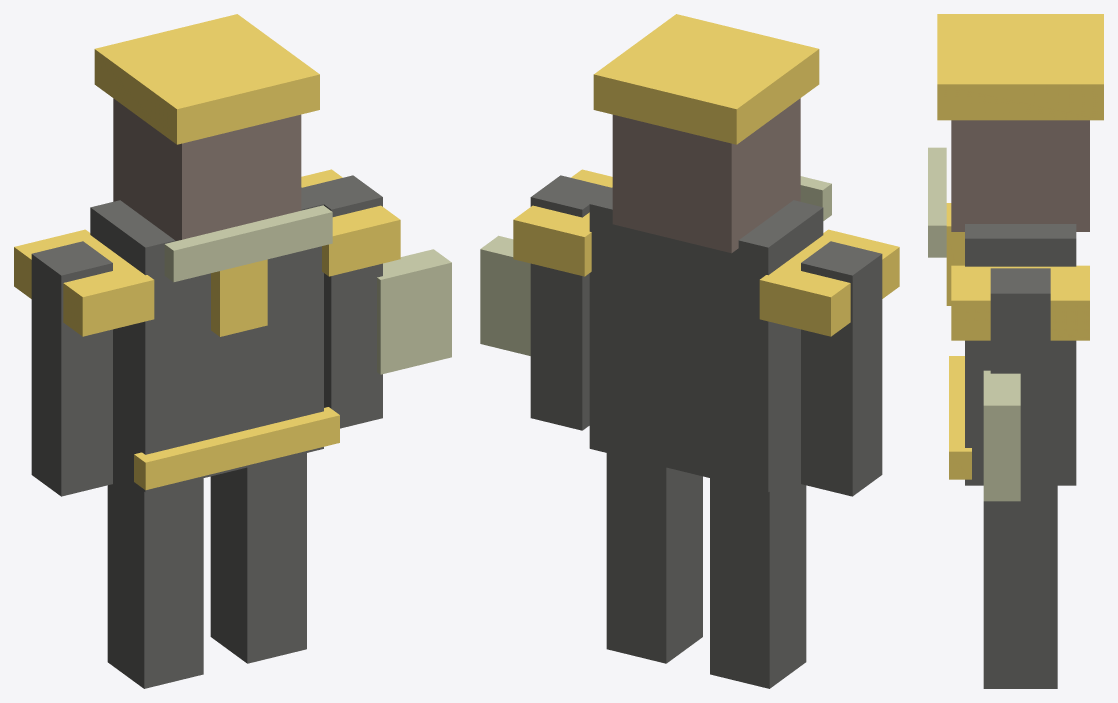
The model's file is 01_ossa_gantryn_oracle_under_transit.glb.
3 renders of one model, left to right at view 1: azimuth 30°, elevation 25°; view 2: azimuth 150°, elevation 25°; view 3: azimuth 270°, elevation 25°, orthographic.
Visible parts, largest first — view 1: Ossa Gantryn, Oracle under Transit; view 2: Ossa Gantryn, Oracle under Transit; view 3: Ossa Gantryn, Oracle under Transit.
Part boxes in pixels (x1=…): Ossa Gantryn, Oracle under Transit: x1=14, y1=14, x2=451, y2=688; Ossa Gantryn, Oracle under Transit: x1=480, y1=14, x2=899, y2=688; Ossa Gantryn, Oracle under Transit: x1=928, y1=14, x2=1103, y2=688.
Bounding box in the file's own units: 1.06 × 1.56 × 0.4148.
